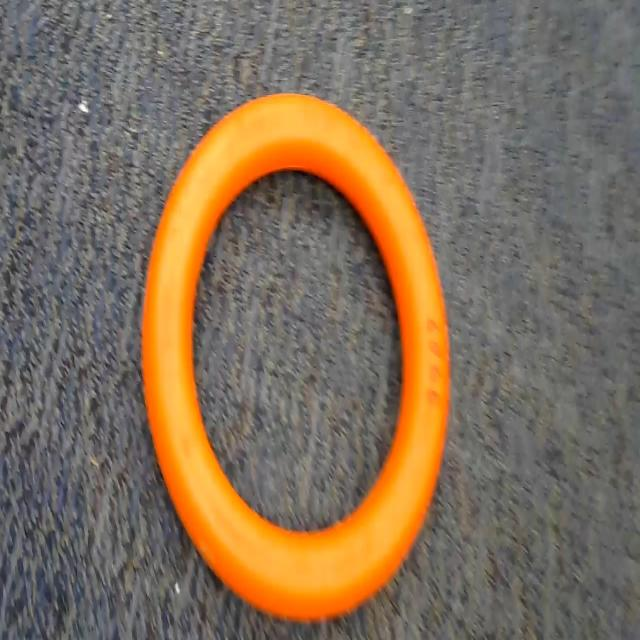note: (130, 79, 470, 628)
